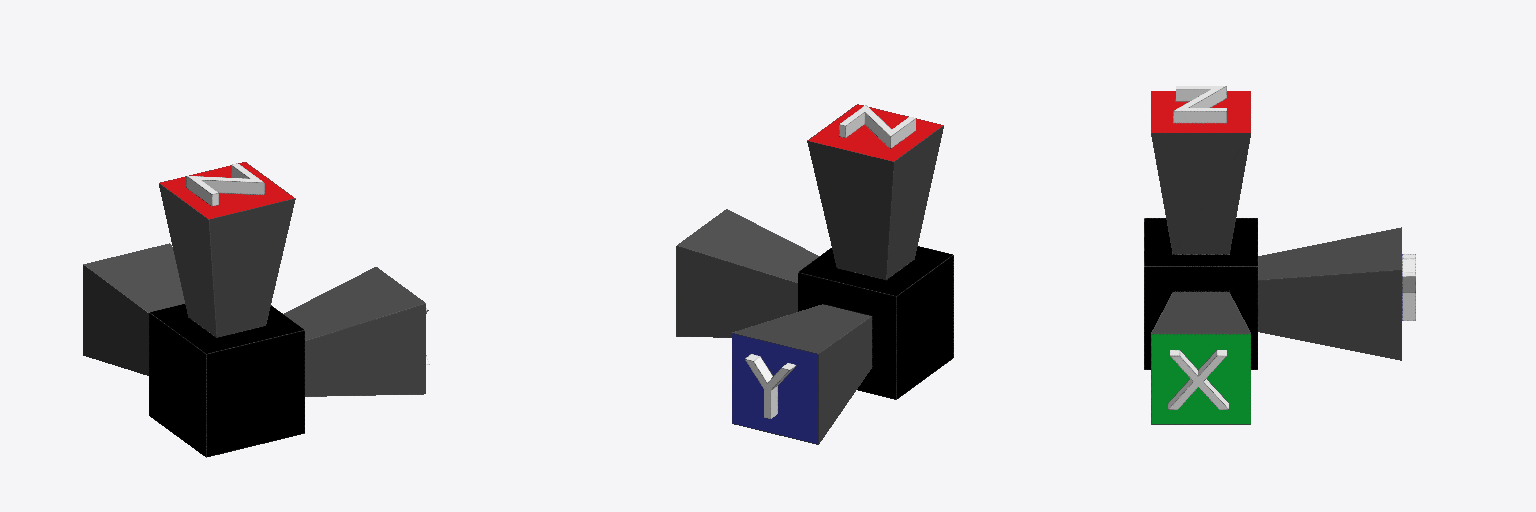
The picture shows the model from 3 angles: view 1: azimuth 30°, elevation 25°; view 2: azimuth 150°, elevation 25°; view 3: azimuth 270°, elevation 25°; orthographic projection.
Size of the model in its own units: 0.1536 by 0.1536 by 0.1536.
1 materials, 1 textured.